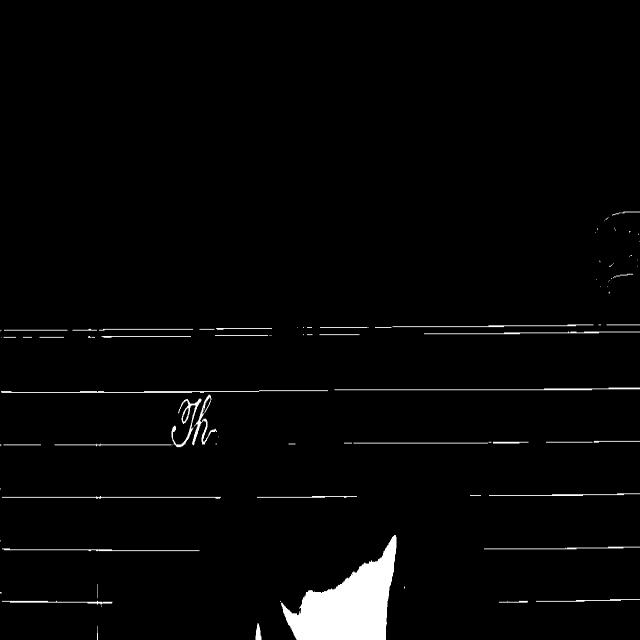noise: (0, 386, 640, 395), (300, 324, 640, 336), (0, 328, 195, 339), (197, 327, 273, 337), (0, 442, 41, 446)
